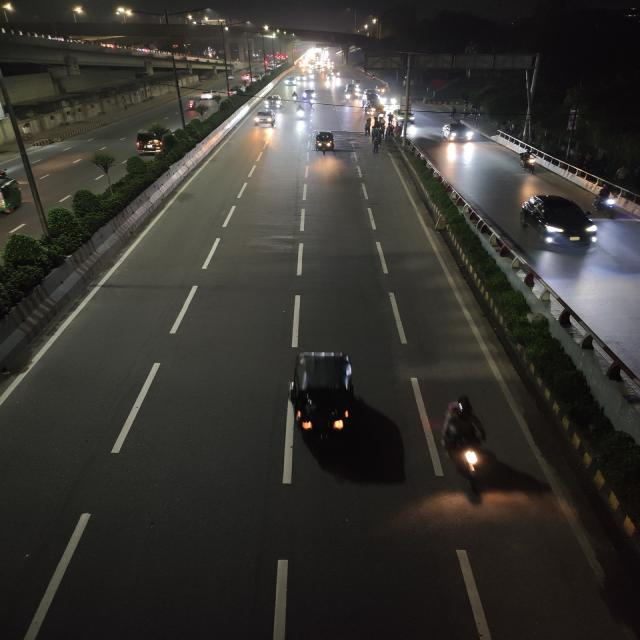car: (514, 191, 603, 255), (133, 124, 167, 154), (440, 120, 477, 144), (251, 109, 277, 128), (393, 109, 417, 125), (261, 94, 284, 110), (301, 87, 318, 101), (198, 89, 215, 101)
cng: (285, 349, 378, 458), (311, 128, 338, 154)
motorcycle: (432, 392, 510, 504), (591, 186, 624, 217), (514, 148, 546, 176), (294, 103, 307, 121), (185, 97, 200, 112), (290, 89, 300, 101)
pedestrian: (370, 136, 382, 154), (361, 122, 371, 136), (386, 112, 394, 127)
